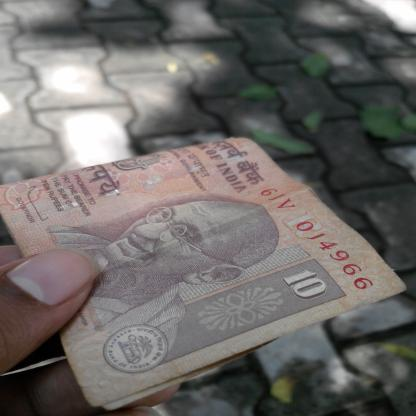Old10Front: (0, 137, 409, 413)
